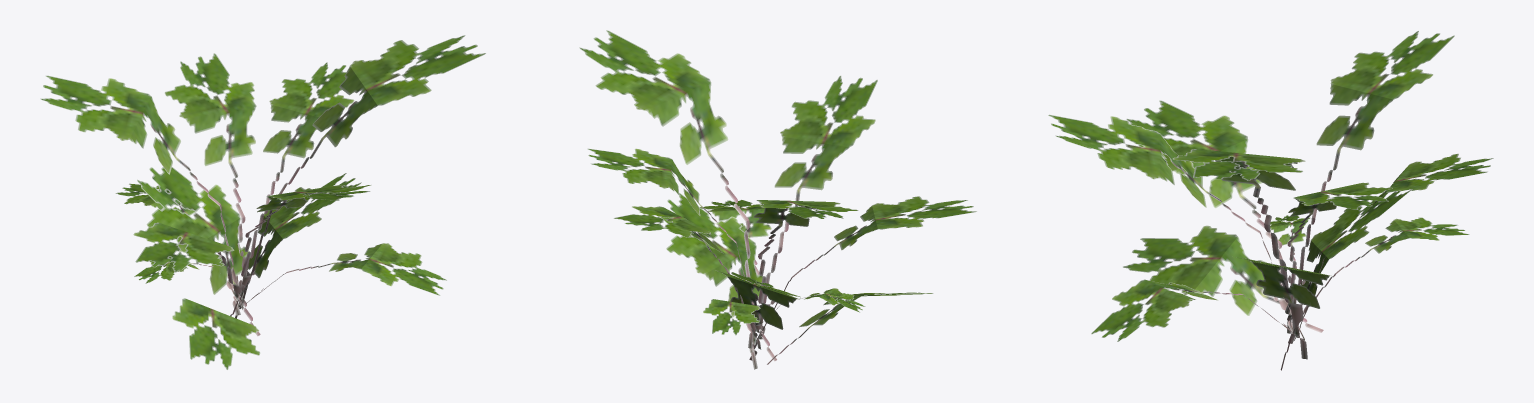
Rendered from Planter_008.fbx.
3 renders of one model, left to right at view 1: azimuth 30°, elevation 25°; view 2: azimuth 150°, elevation 25°; view 3: azimuth 270°, elevation 25°, orthographic. The views are drawn at different scales.
Parts seen in each view (by area): view 1: Planters_008; view 2: Planters_008; view 3: Planters_008.
Part boxes in pixels (<box>): Planters_008: <box>40,35,485,369</box>; Planters_008: <box>579,30,976,369</box>; Planters_008: <box>1048,31,1493,370</box>.
Size of the model in its own units: 79.06 by 51.58 by 73.24.
